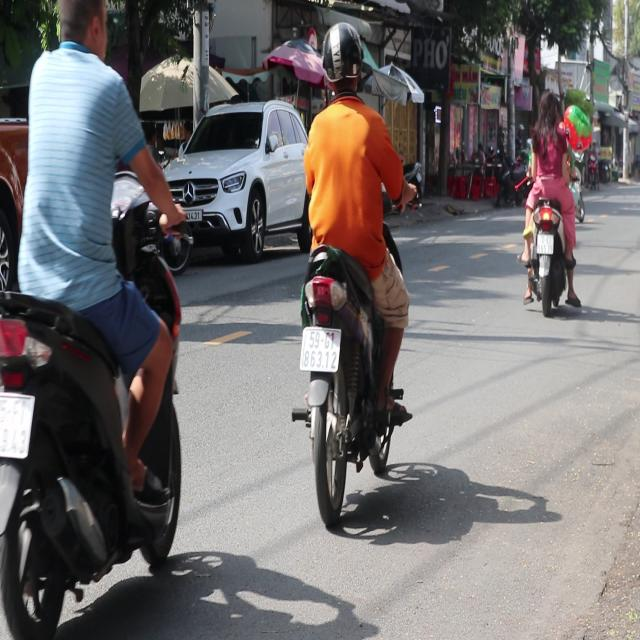helmet: (321, 19, 366, 102)
licenseplate: (0, 1, 192, 634), (288, 16, 416, 526), (518, 81, 581, 316)
motorcyclist: (537, 90, 560, 130)
nohelmet: (0, 393, 32, 456), (300, 327, 340, 371), (537, 233, 553, 254)
